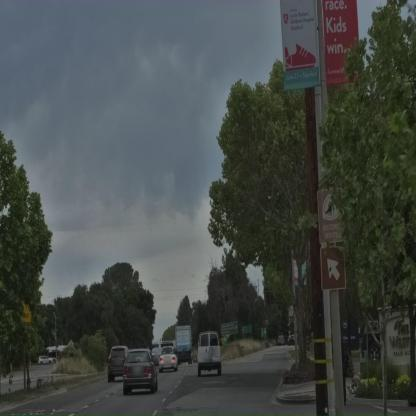bus: (196, 332, 222, 376)
car: (122, 349, 161, 395), (321, 249, 349, 297), (107, 346, 130, 382), (157, 350, 179, 372), (38, 356, 52, 365)
truck: (175, 327, 192, 364)
